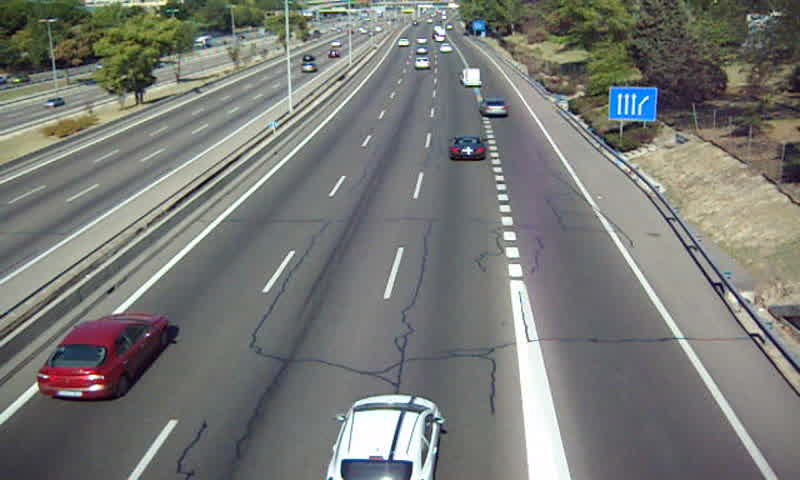car: (35, 313, 168, 402), (326, 395, 442, 480), (449, 137, 488, 163), (480, 97, 509, 118), (414, 56, 430, 69)
van: (462, 67, 481, 85)
